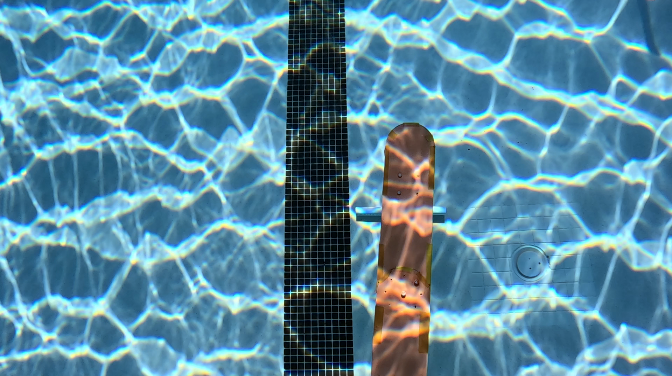pathmarker: (372, 123, 436, 375)
